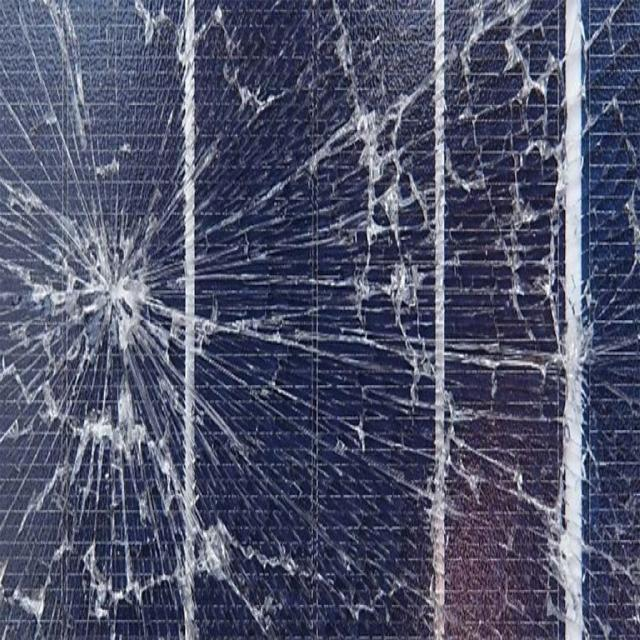Physical-damage: (53, 218, 161, 481), (350, 98, 418, 322), (498, 18, 550, 114), (186, 495, 236, 589), (554, 313, 593, 401), (540, 497, 570, 600)
